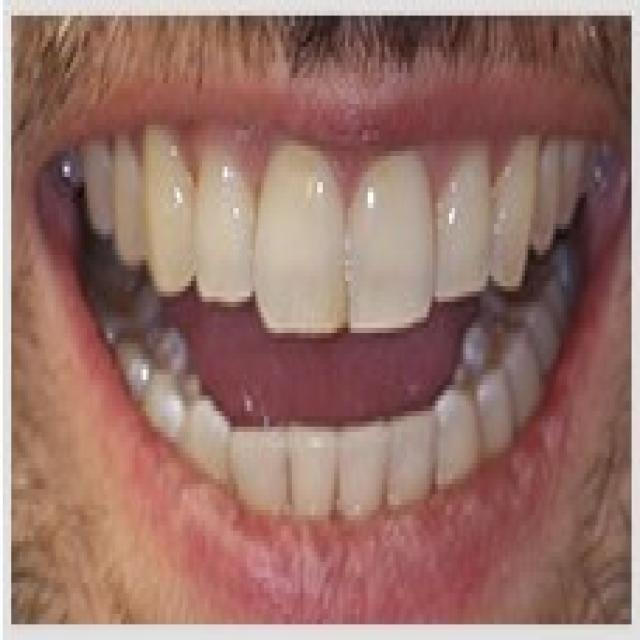tooth: (314, 151, 438, 349), (247, 151, 345, 364), (121, 146, 216, 302), (191, 146, 261, 317), (258, 427, 346, 520), (196, 390, 258, 510), (337, 432, 432, 510), (440, 151, 486, 291), (135, 354, 188, 453), (435, 401, 503, 468), (497, 151, 530, 281), (480, 369, 539, 426)
